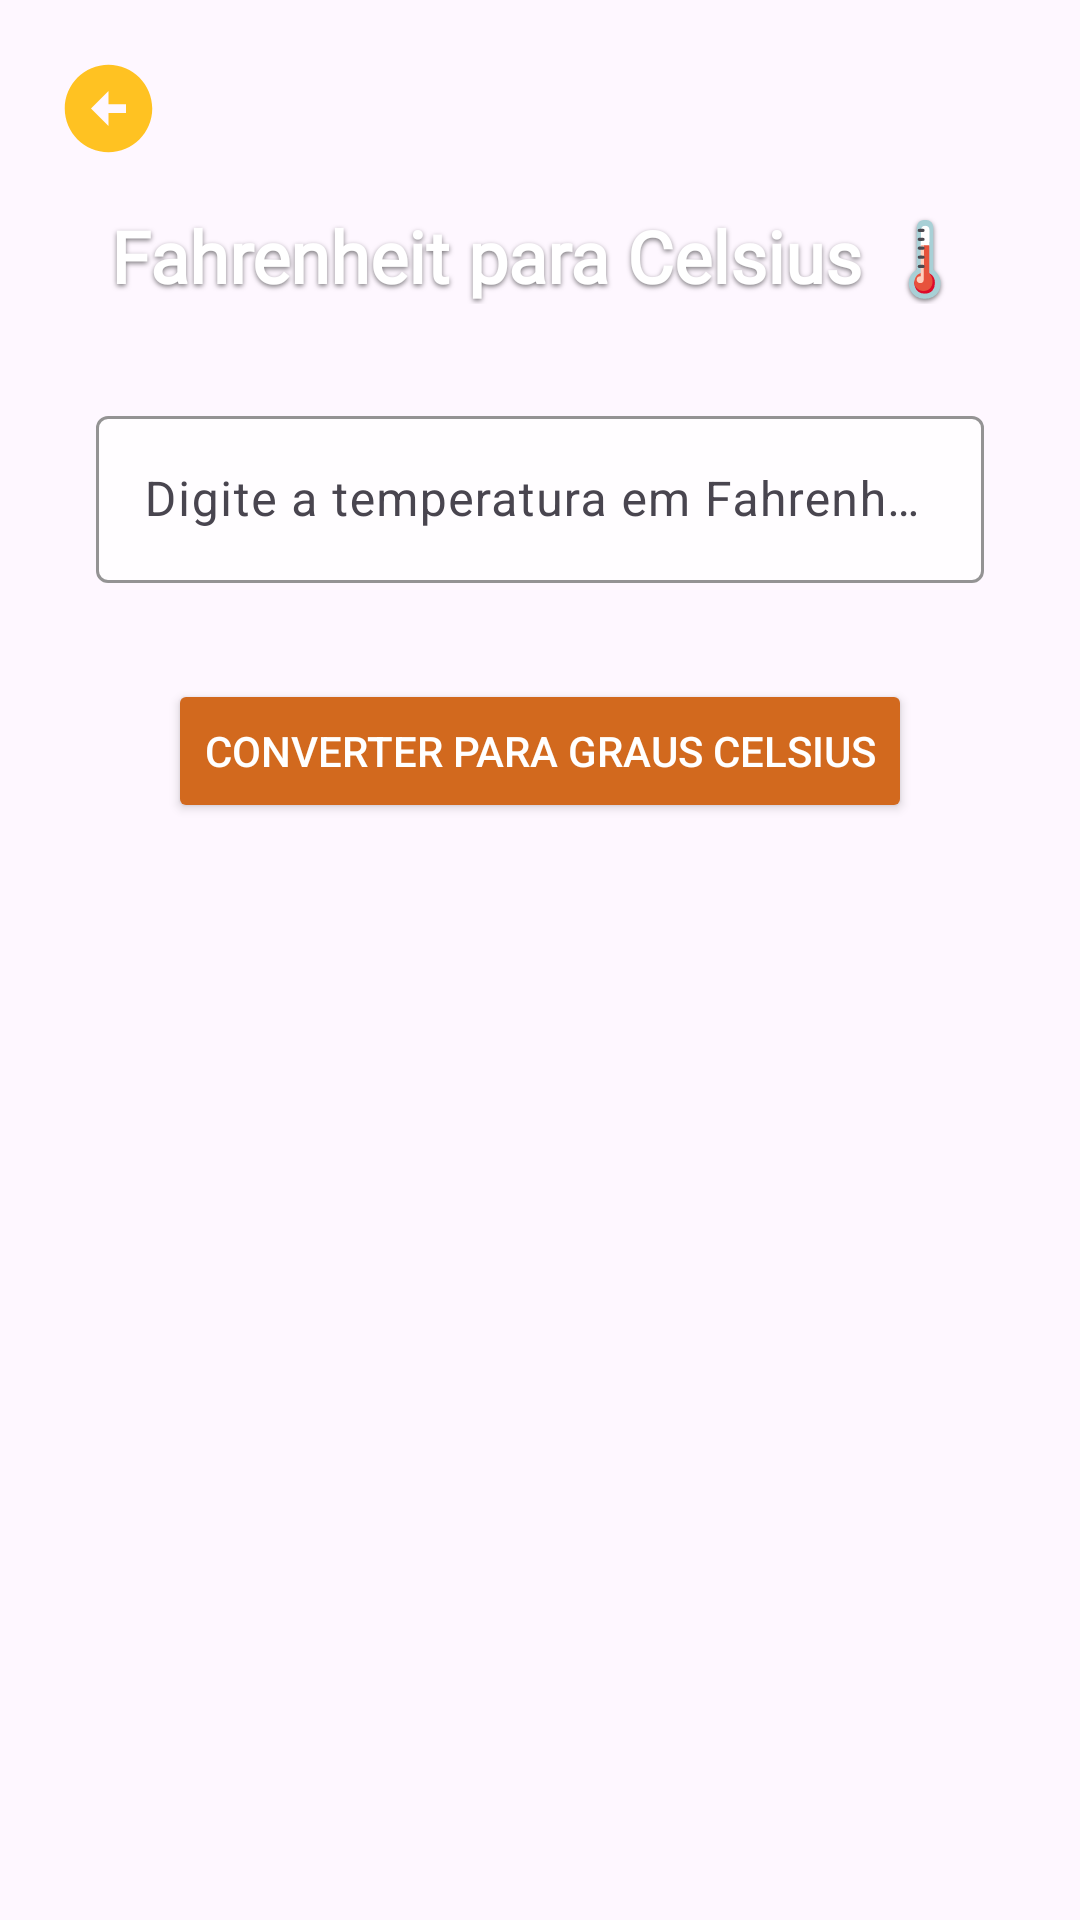

Screen size 1080w x 1920h. Icon name, then its center in pixels as (x,y):
Voltar: (108,108)
